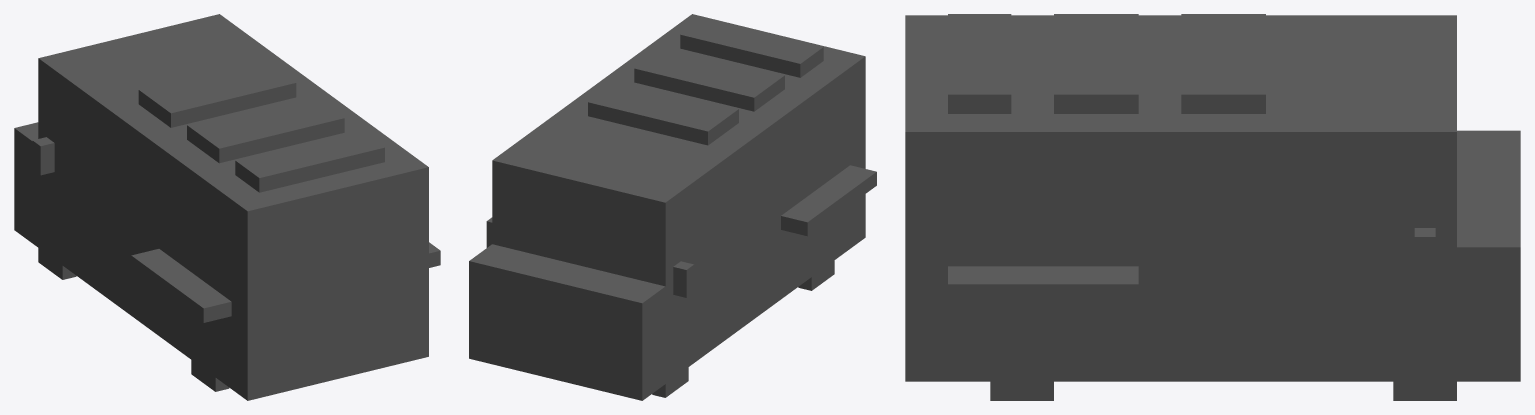
The model's file is veh_lunch2.obj.
3 views of the same model, side by side, from view 1: azimuth 30°, elevation 25°; view 2: azimuth 150°, elevation 25°; view 3: azimuth 270°, elevation 25° (orthographic). The views are drawn at different scales.
Bounding box in the file's own units: 17 × 15 × 29.
